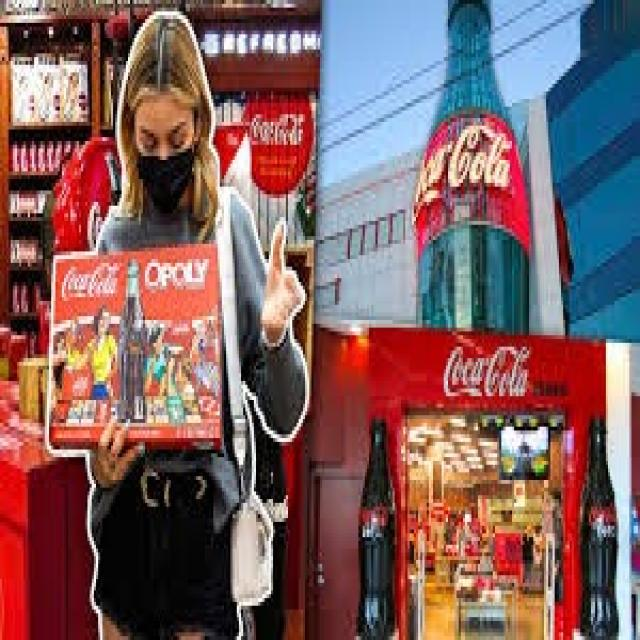coca cola: (406, 122, 514, 222), (440, 341, 531, 404)
